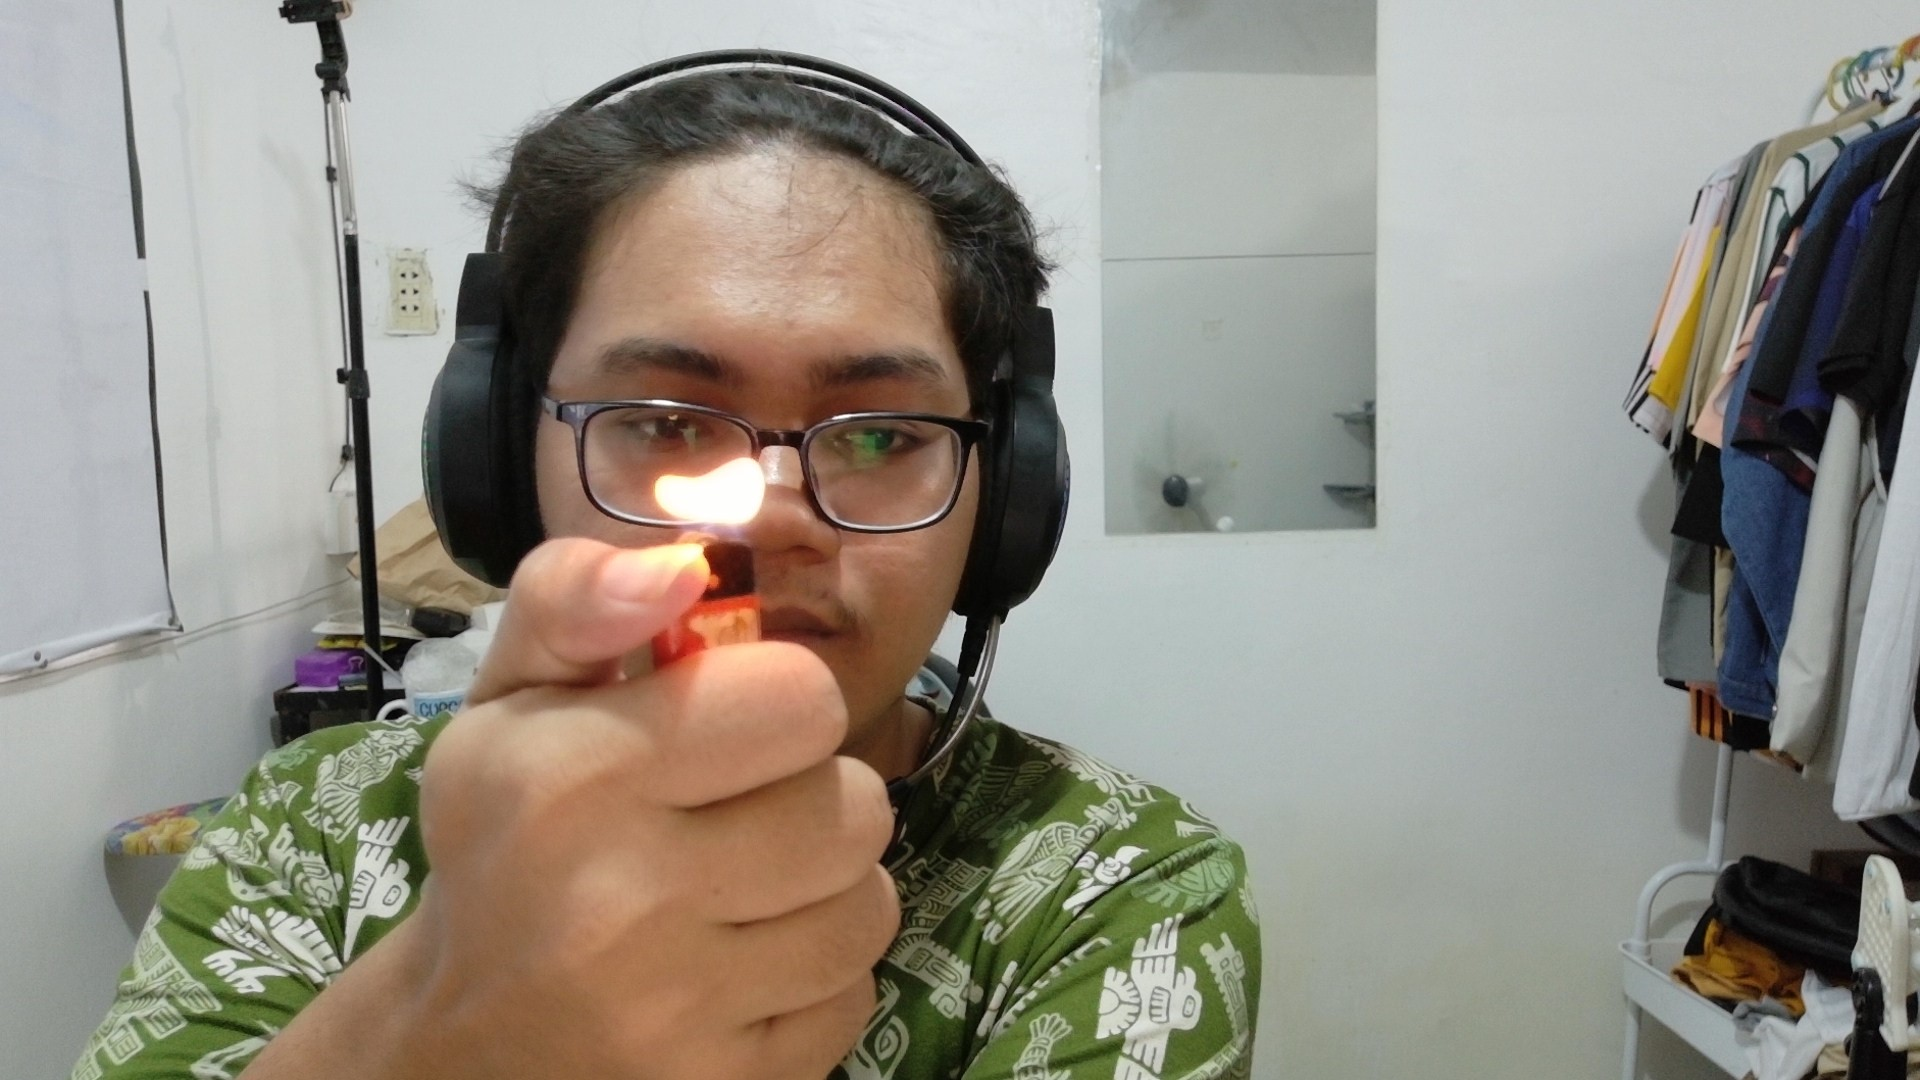fire: (642, 427, 792, 568)
